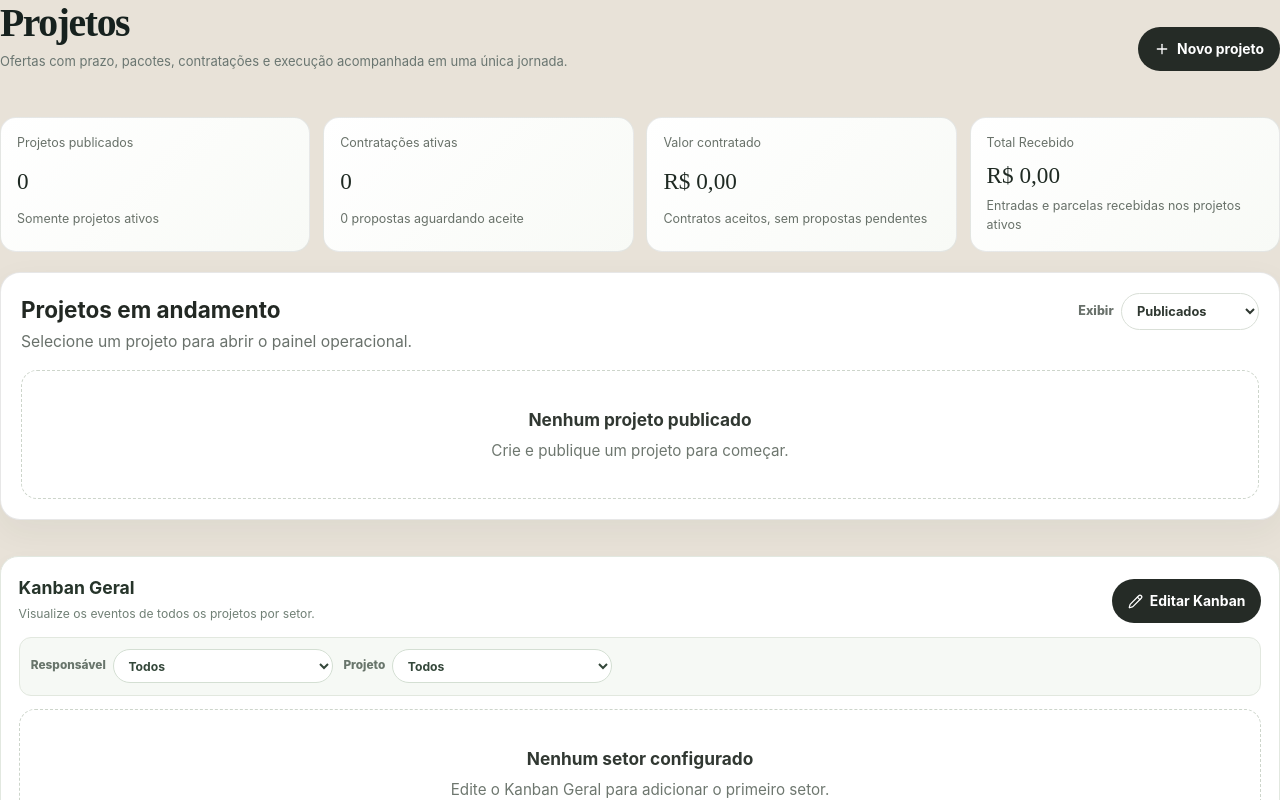
projects navigation › offers publishing for an archived project
Select "Arquivados" in the dropdown named "Filtrar projetos" at (1190, 312), box [1121,293,1259,330]
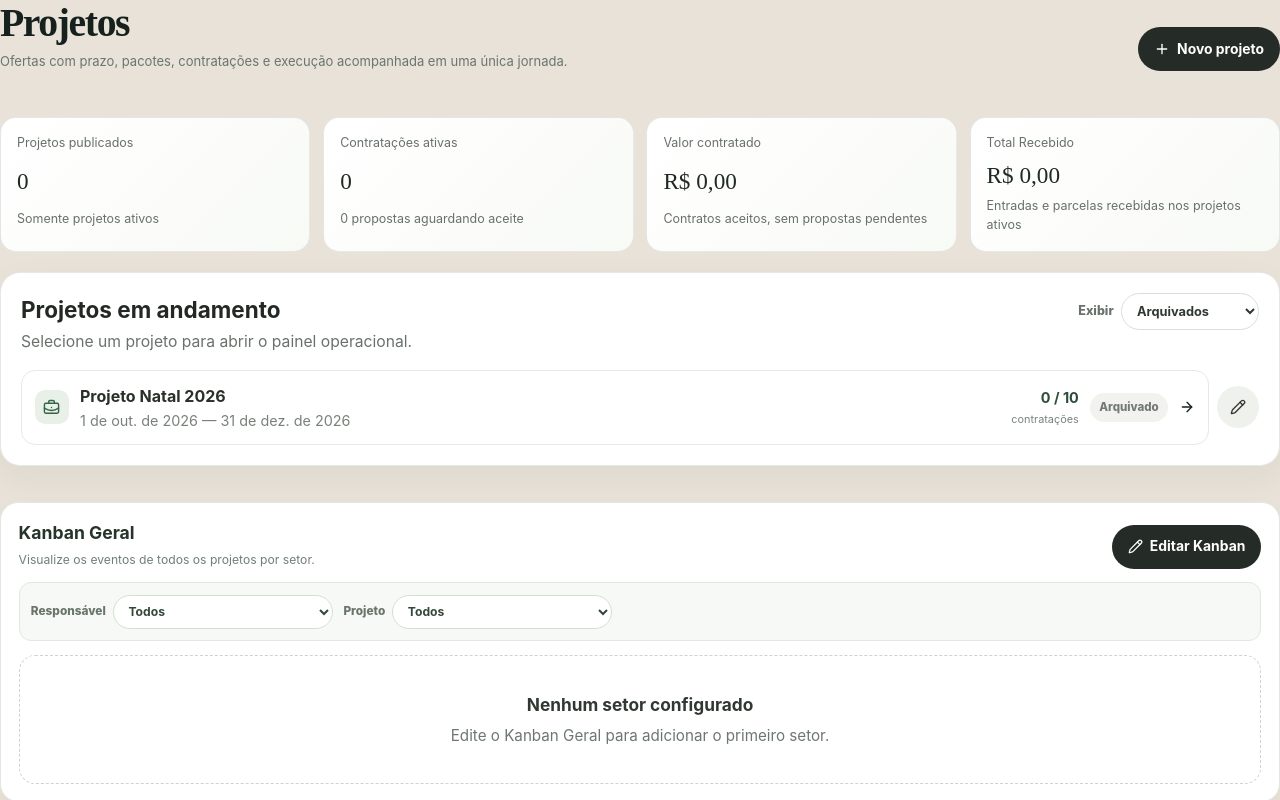
Click the button named "Editar projeto Projeto Natal 2026" at (1238, 407), box [1217,386,1259,428]
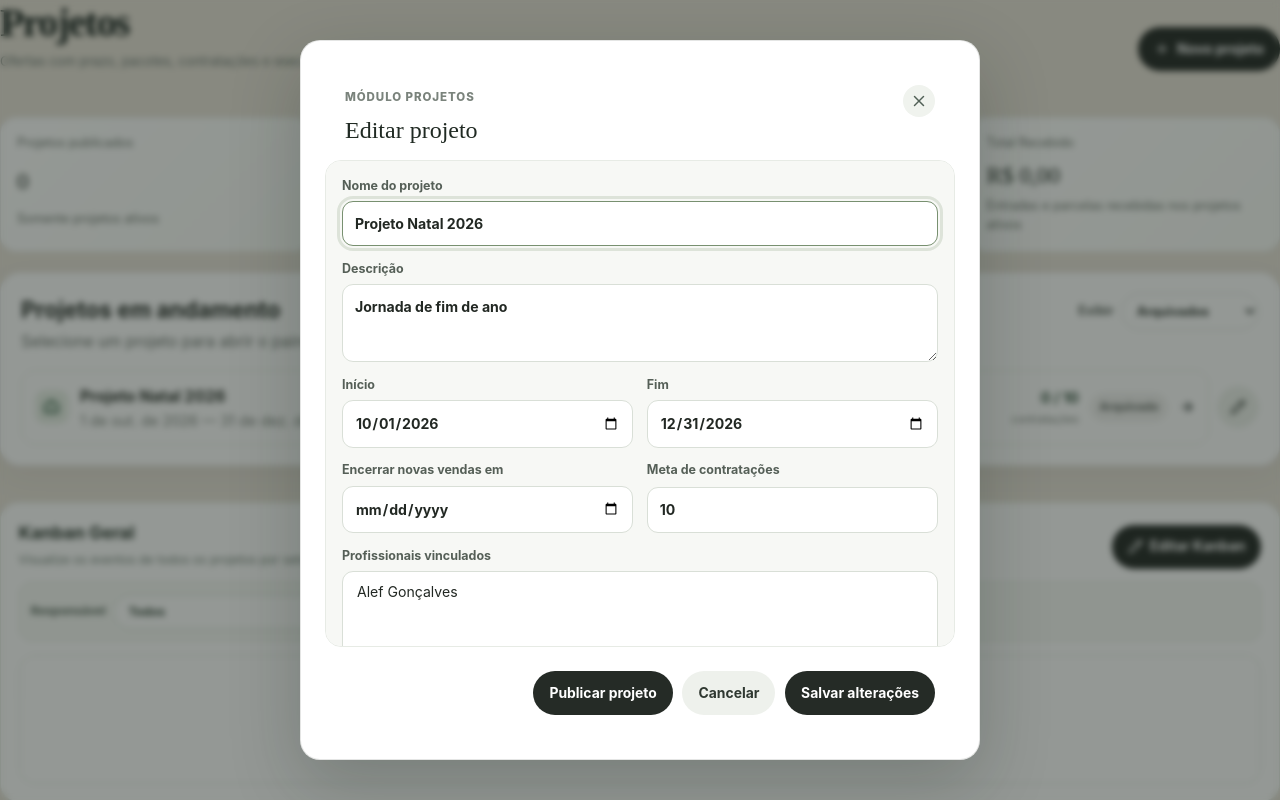
expect the button "Publicar projeto" is shown: met, box [533,671,673,715]
